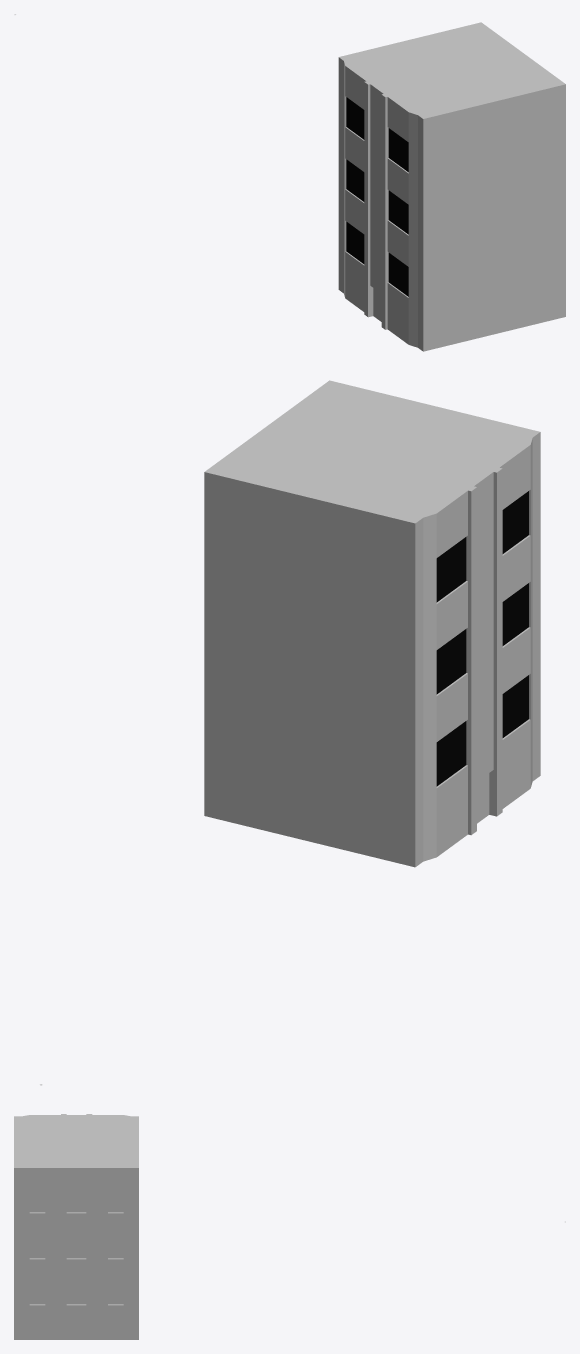
File: _uilding3.fbx
3 views of the same model, one above another, from view 1: azimuth 30°, elevation 25°; view 2: azimuth 150°, elevation 25°; view 3: azimuth 270°, elevation 25° (orthographic). The views are drawn at different scales.
Parts seen in each view (by area): view 1: BrickBuilding3; view 2: BrickBuilding3; view 3: BrickBuilding3.
Boxes of the visible parts, bbox=[...] form: BrickBuilding3: bbox=[14, 14, 565, 351]; BrickBuilding3: bbox=[40, 380, 540, 1085]; BrickBuilding3: bbox=[14, 1114, 565, 1339].
Bounding box in the file's own units: 2144 × 2669 × 7763.
